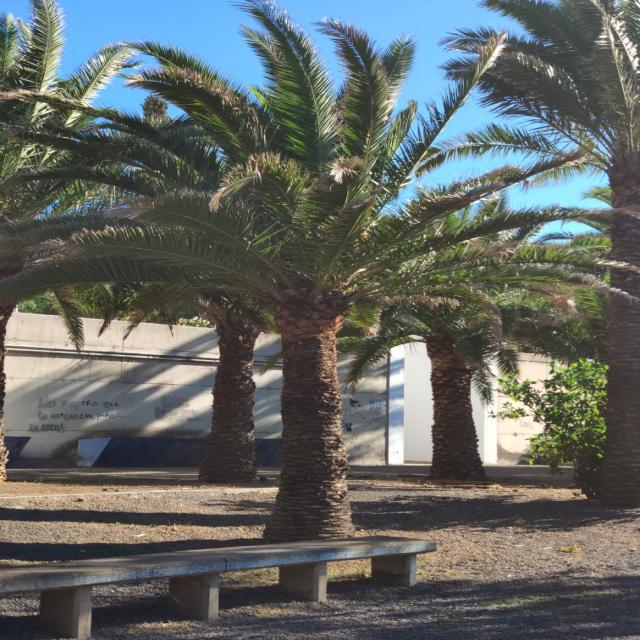Palm-Trees: (35, 28, 579, 540)
